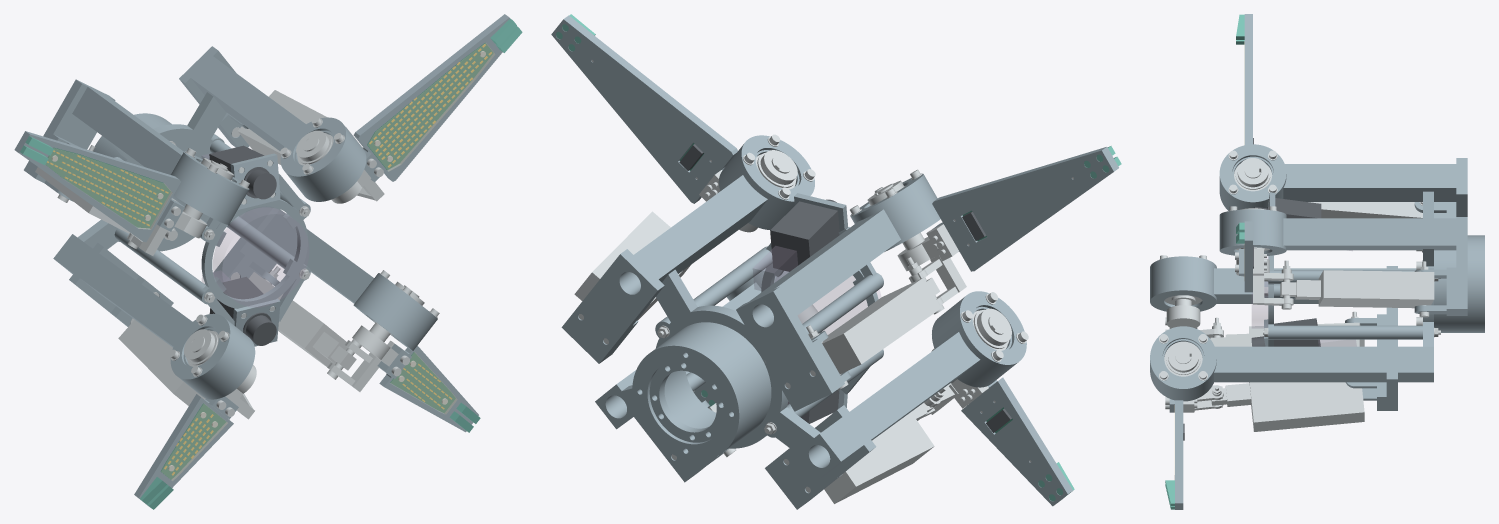
Rendered from HEAD-INTEGRATED03-open.glb.
3 renders of one model, left to right at view 1: azimuth 30°, elevation 25°; view 2: azimuth 150°, elevation 25°; view 3: azimuth 270°, elevation 25°, orthographic. The views are drawn at different scales.
Visible parts, largest first — view 1: main_carrier, display_including_candidate_GH_keepout, removable_optical_frame, UR_lamp_optical_sheet, UL_lamp_optical_sheet, UL_lamp_PCB_outline, UR_lamp_PCB_outline, UR_metal_blade_with_narrow_tongue, UL_metal_blade_with_narrow_tongue, LL_P16_envelope_case, LR_P16_envelope_case, LL_metal_blade_with_narrow_tongue (+21 smaller); view 2: main_carrier, UR_metal_blade_with_narrow_tongue, UL_metal_blade_with_narrow_tongue, J7_existing_adapter, UL_P16_envelope_case, LL_metal_blade_with_narrow_tongue, J7_extension24, LL_P16_envelope_case, camera_1_physical_keepout, LL_bearing_outer_cap, UL_integral_steel_crank_spindle, UR_bearing_outer_cap (+10 smaller); view 3: main_carrier, LR_P16_envelope_case, UR_P16_envelope_case, optic_column_35.0_-22.0, LR_bearing_outer_cap, UL_bearing_outer_cap, J7_existing_adapter, UL_P16_envelope_case, J7_extension24, UR_integral_steel_crank_spindle, UL_metal_blade_with_narrow_tongue, LL_integral_steel_crank_spindle (+19 smaller).
Boxes of the visible parts, x1,y1,x2,y2 form: main_carrier: [24, 46, 433, 399]; display_including_candidate_GH_keepout: [213, 207, 308, 307]; removable_optical_frame: [199, 153, 310, 346]; UR_lamp_optical_sheet: [367, 43, 494, 171]; UL_lamp_optical_sheet: [45, 148, 172, 229]; UL_lamp_PCB_outline: [45, 147, 170, 228]; UR_lamp_PCB_outline: [367, 42, 493, 170]; UR_metal_blade_with_narrow_tongue: [353, 14, 509, 181]; UL_metal_blade_with_narrow_tongue: [14, 131, 180, 242]; LL_P16_envelope_case: [118, 320, 198, 405]; LR_P16_envelope_case: [248, 272, 347, 366]; LL_metal_blade_with_narrow_tongue: [134, 394, 233, 506]; main_carrier: [561, 148, 1013, 509]; UR_metal_blade_with_narrow_tongue: [551, 15, 737, 203]; UL_metal_blade_with_narrow_tongue: [932, 147, 1118, 271]; J7_existing_adapter: [632, 337, 750, 460]; UL_P16_envelope_case: [822, 277, 940, 374]; LL_metal_blade_with_narrow_tongue: [961, 377, 1072, 506]; J7_extension24: [663, 322, 771, 442]; LL_P16_envelope_case: [824, 412, 934, 503]; camera_1_physical_keepout: [770, 199, 839, 271]; LL_bearing_outer_cap: [955, 291, 1026, 368]; UL_integral_steel_crank_spindle: [874, 183, 966, 305]; UR_bearing_outer_cap: [738, 135, 814, 205]; main_carrier: [1150, 158, 1467, 410]; LR_P16_envelope_case: [1249, 382, 1364, 431]; UR_P16_envelope_case: [1318, 270, 1434, 308]; optic_column_35.0_-22.0: [1274, 325, 1422, 339]; LR_bearing_outer_cap: [1150, 326, 1216, 390]; UL_bearing_outer_cap: [1219, 144, 1286, 204]; J7_existing_adapter: [1467, 235, 1484, 332]; UL_P16_envelope_case: [1319, 202, 1422, 218]; J7_extension24: [1434, 250, 1467, 332]; UR_integral_steel_crank_spindle: [1236, 247, 1293, 305]; UL_metal_blade_with_narrow_tongue: [1244, 14, 1252, 144]; LL_integral_steel_crank_spindle: [1166, 295, 1223, 338].
Bounding box in the file's own units: 0.3685 × 0.2571 × 0.2405.
